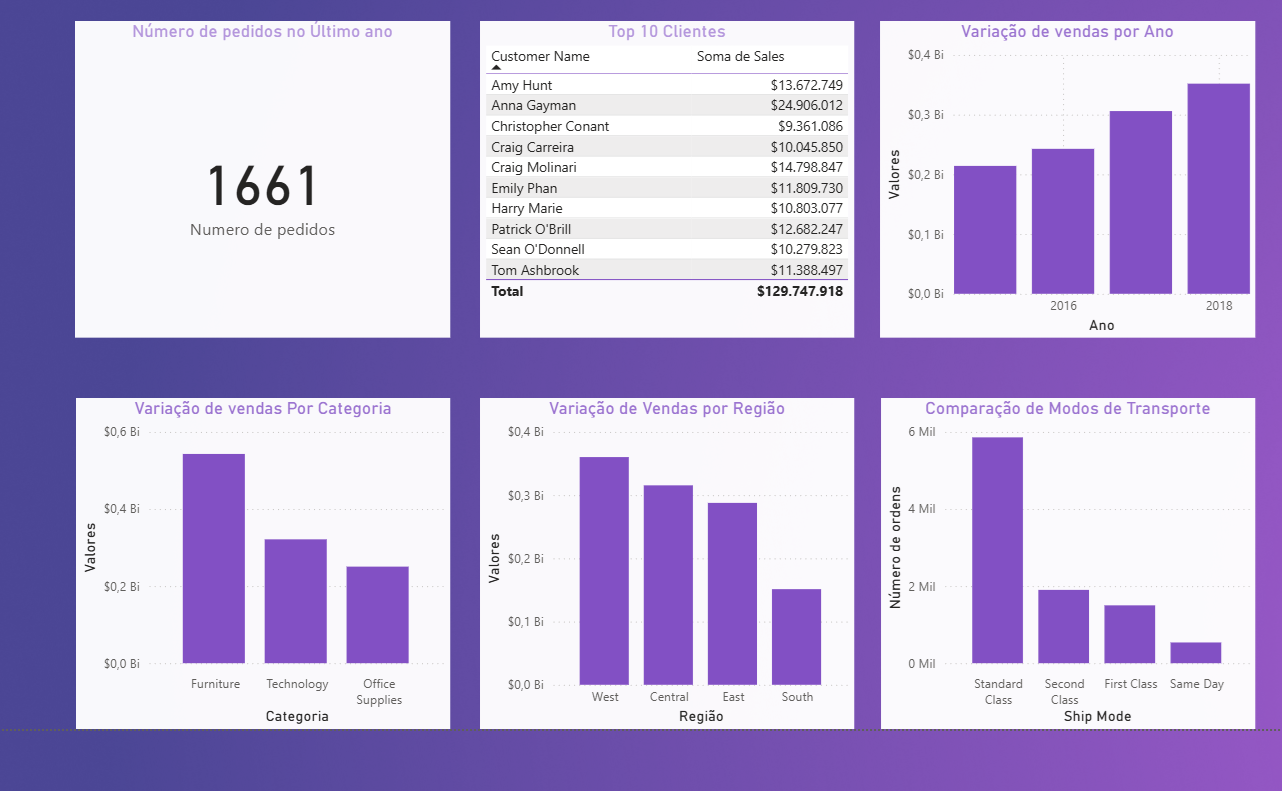

What the dashboard file says about the page in this screenshot:
{"tool":"powerbi","page":{"name":"Página 2","canvas":[1280,720],"ordinal":1},"visuals":[{"type":"columnChart","title":"Comparação de Modos de Transporte","fields":{"Y":["train.Order ID"],"Category":["train.Ship Mode"]},"box":[883.2,397.8,363.8,321.9],"z":0},{"type":"tableEx","title":"Top 10 Clientes","fields":{"Values":["train.Customer Name","train.Sales"]},"box":[493.1,31.1,363.8,308.3],"z":1000},{"type":"columnChart","title":"Variação de vendas por Ano","fields":{"Y":["train.Sales"],"Category":["train.Ano"]},"box":[882.2,31.1,364.7,308.3],"z":2000},{"type":"columnChart","title":"Variação de vendas Por Categoria","fields":{"Category":["train.Category"],"Y":["train.Sales"]},"box":[100.2,397.8,363.8,321.9],"z":3000},{"type":"columnChart","title":"Variação de Vendas por Região","fields":{"Category":["train.Region"],"Y":["train.Sales"]},"box":[493.1,397.8,363.8,321.9],"z":4000},{"type":"card","title":"Número de pedidos no Último ano","fields":{"Values":["train.Order ID"]},"box":[99.2,31.1,364.7,308.3],"z":5000}]}

Visuals, with their boxes in screenshot pixels (x1, y1, x2, y2):
"Comparação de Modos de Transporte" columnChart: x1=878 y1=394 x2=1250 y2=724
"Top 10 Clientes" tableEx: x1=478 y1=18 x2=851 y2=334
"Variação de vendas por Ano" columnChart: x1=877 y1=18 x2=1250 y2=334
"Variação de vendas Por Categoria" columnChart: x1=76 y1=394 x2=448 y2=724
"Variação de Vendas por Região" columnChart: x1=478 y1=394 x2=851 y2=724
"Número de pedidos no Último ano" card: x1=75 y1=18 x2=448 y2=334
